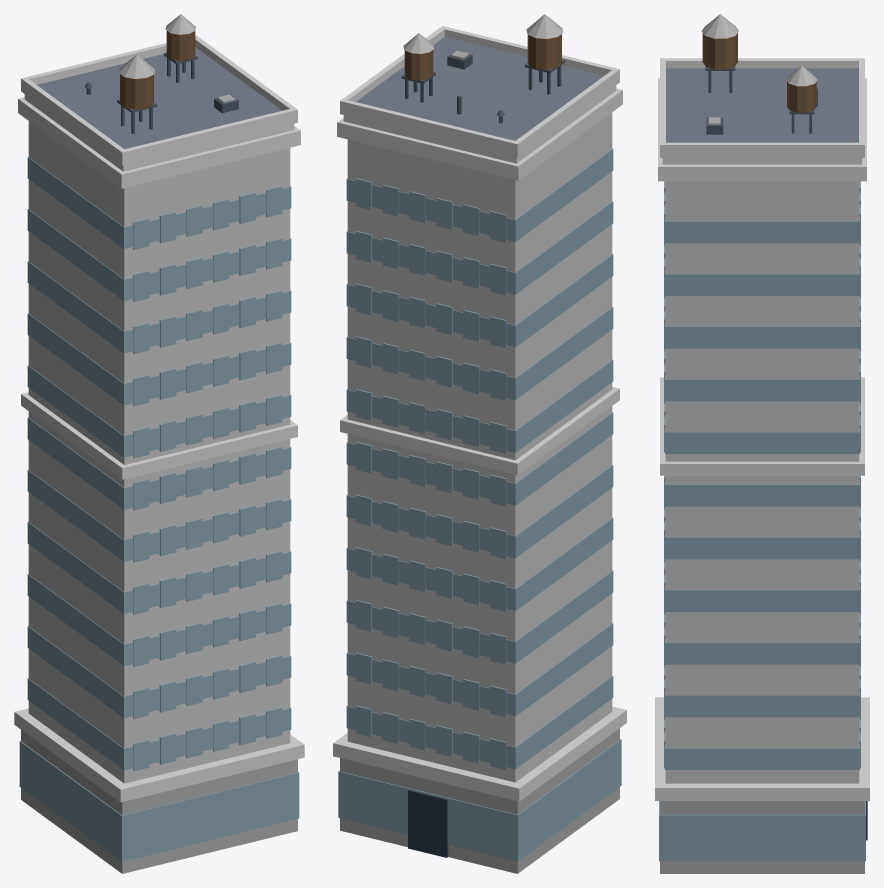
File: building_large_cornice.glb
The picture shows the model from 3 angles, left to right: view 1: azimuth 30°, elevation 25°; view 2: azimuth 150°, elevation 25°; view 3: azimuth 270°, elevation 25°; orthographic projection.
Visible parts, largest first — view 1: building_large_cornice; view 2: building_large_cornice; view 3: building_large_cornice.
Part boxes in pixels (left/top/right/bottom): building_large_cornice: left=14, top=14, right=304, bottom=873; building_large_cornice: left=333, top=14, right=626, bottom=873; building_large_cornice: left=655, top=14, right=869, bottom=873.
Bounding box in the file's own units: 15.3 × 62.49 × 15.3.
